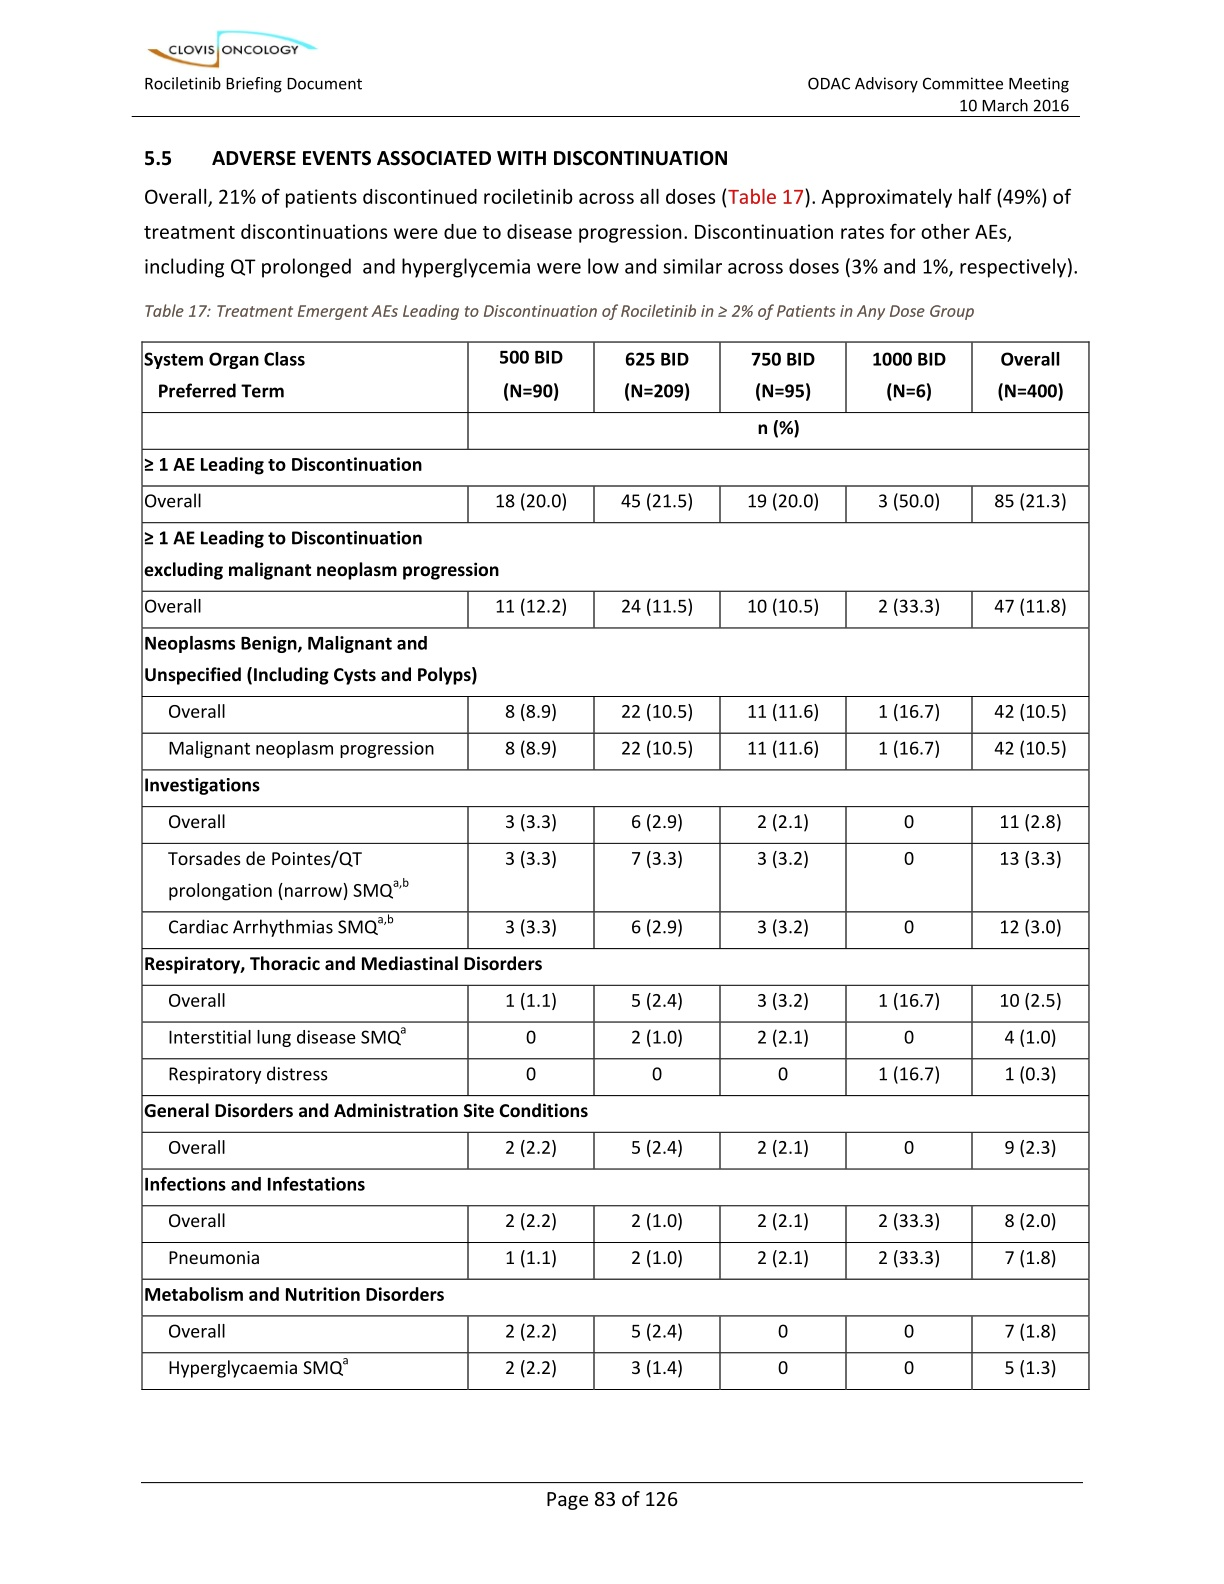merged_cells: (141, 339, 1090, 1390)
